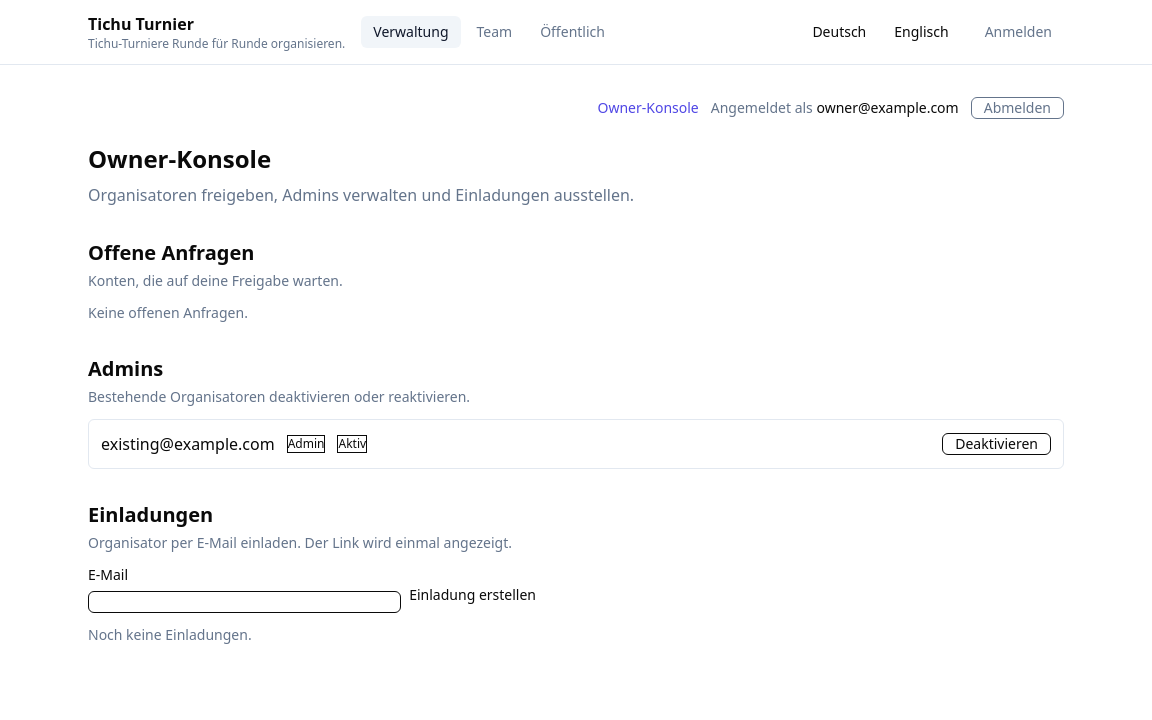
Scenario: owner console › disables an active admin and reflects the new status
Click the button "Deaktivieren". click: [997, 444]
box: x1=942 y1=433 x2=1051 y2=455
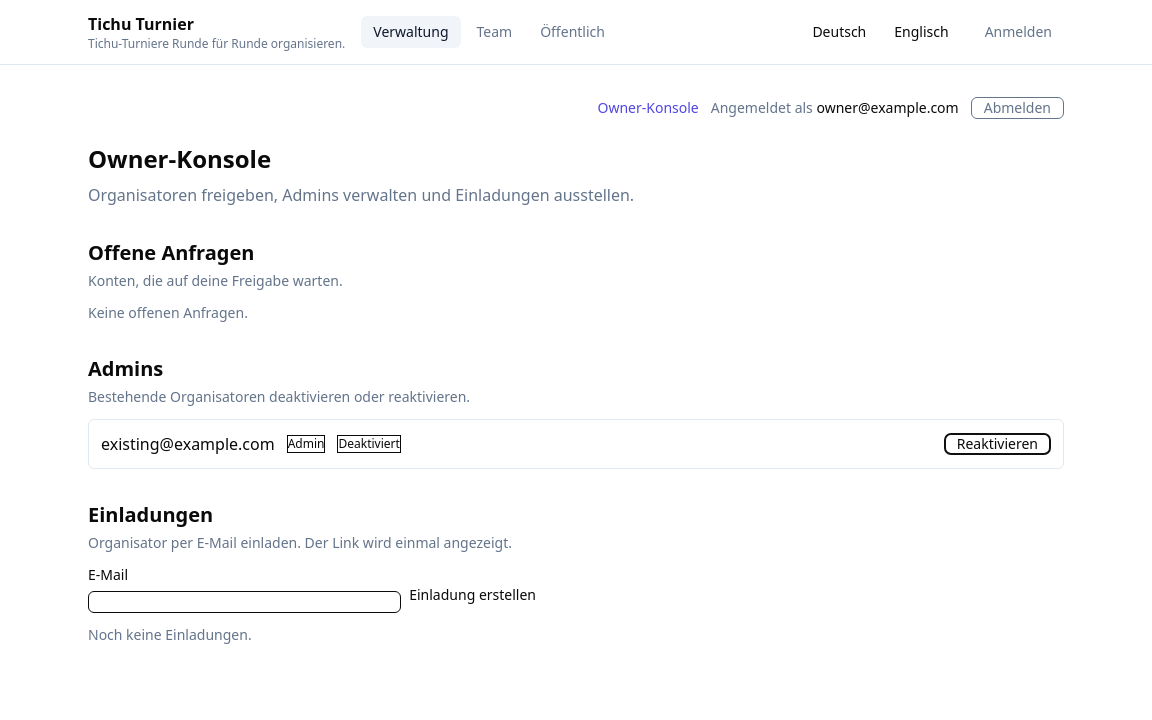
Expected: the button "Reaktivieren" is shown, x1=944 y1=433 x2=1051 y2=455
